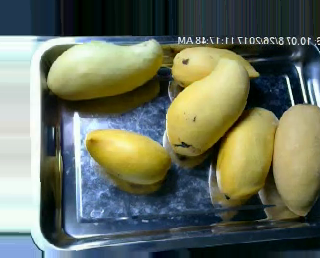Mango: (165, 57, 249, 156), (47, 39, 161, 99), (216, 106, 278, 199), (273, 103, 320, 217), (86, 129, 171, 184), (171, 46, 259, 89)
